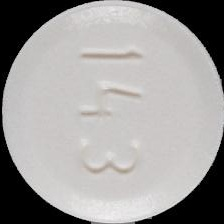54868-5942: (0, 0, 224, 224)
